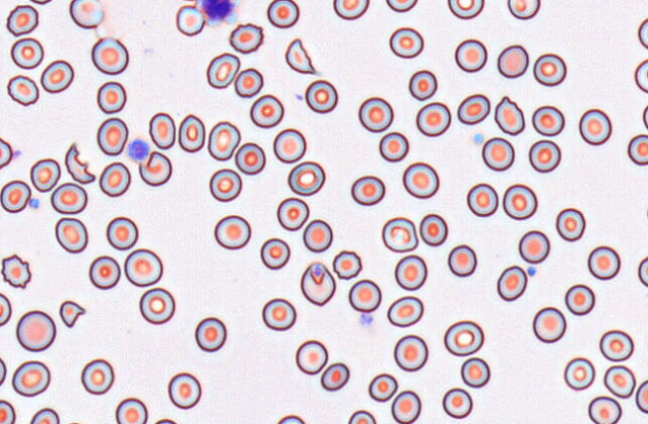PLT: (126, 139, 150, 162), (472, 131, 486, 146), (528, 264, 538, 278)
RBC: (15, 309, 56, 352), (123, 248, 163, 286), (443, 320, 484, 356), (11, 360, 50, 397), (91, 36, 128, 75), (402, 161, 439, 198), (138, 287, 175, 324), (287, 160, 325, 196), (381, 216, 418, 252), (213, 214, 251, 249), (207, 120, 240, 160), (502, 183, 537, 220), (393, 334, 428, 371), (415, 101, 451, 136), (358, 96, 393, 132), (532, 306, 566, 343), (80, 358, 114, 395), (167, 372, 201, 409), (578, 108, 612, 145), (249, 93, 284, 128), (206, 52, 240, 88), (54, 217, 88, 253), (96, 117, 128, 155), (272, 128, 306, 163), (394, 254, 427, 290), (98, 161, 131, 197), (50, 182, 87, 214), (386, 295, 423, 327), (208, 168, 242, 202), (304, 79, 338, 113), (40, 59, 74, 93), (261, 297, 296, 330), (295, 339, 328, 374), (276, 196, 309, 231), (481, 136, 514, 171), (587, 245, 620, 280), (194, 316, 226, 352), (105, 216, 138, 250), (348, 278, 381, 312), (454, 38, 487, 72), (29, 157, 61, 192), (466, 182, 498, 217), (599, 329, 634, 361), (496, 265, 527, 301), (177, 113, 205, 152), (533, 53, 566, 86), (528, 139, 561, 172), (518, 229, 550, 263), (603, 364, 635, 398), (88, 255, 120, 289), (389, 26, 423, 58), (350, 174, 385, 205), (0, 253, 31, 288), (228, 22, 263, 53), (10, 37, 43, 69), (6, 74, 39, 106), (457, 93, 490, 125), (563, 357, 595, 390), (0, 179, 31, 213), (234, 141, 265, 175), (497, 44, 528, 78), (6, 4, 38, 36), (531, 105, 564, 136), (96, 80, 126, 114), (555, 207, 585, 241), (148, 112, 175, 149), (259, 237, 290, 269), (564, 283, 595, 315), (302, 219, 332, 252), (391, 390, 421, 423), (447, 244, 477, 277), (587, 395, 621, 424), (175, 4, 205, 36), (419, 213, 448, 246), (69, 0, 103, 28), (442, 387, 472, 418), (460, 357, 490, 388), (378, 131, 408, 162), (266, 0, 299, 28), (408, 69, 437, 100), (332, 250, 362, 279), (368, 372, 397, 402), (234, 67, 263, 97), (320, 362, 349, 391), (115, 397, 147, 423), (332, 0, 369, 20), (447, 0, 484, 19), (627, 133, 647, 165), (507, 0, 540, 19), (634, 58, 648, 93), (29, 407, 59, 423), (635, 379, 647, 413), (347, 409, 376, 423), (0, 136, 12, 169), (385, 0, 417, 12), (0, 292, 11, 326), (0, 399, 15, 423), (637, 255, 648, 287), (637, 17, 647, 49), (275, 414, 305, 423), (0, 356, 7, 386), (642, 103, 648, 130), (153, 417, 179, 423), (29, 0, 53, 5), (645, 326, 648, 363), (645, 195, 648, 227), (61, 421, 87, 424)
Schistocyte: (299, 260, 337, 307), (494, 94, 526, 135), (285, 38, 319, 75), (65, 143, 95, 184), (137, 152, 172, 187), (59, 298, 87, 327)
